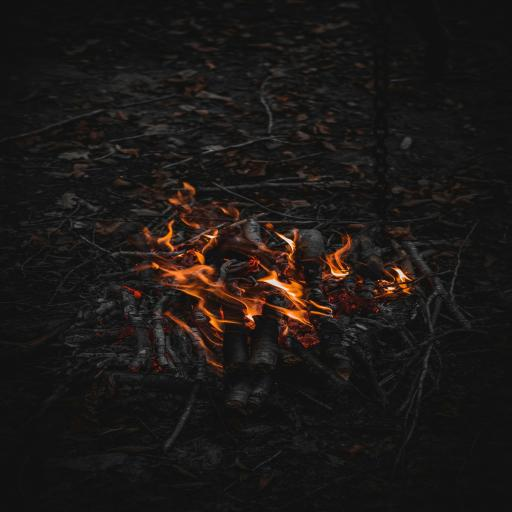campfire: (47, 144, 510, 434)
